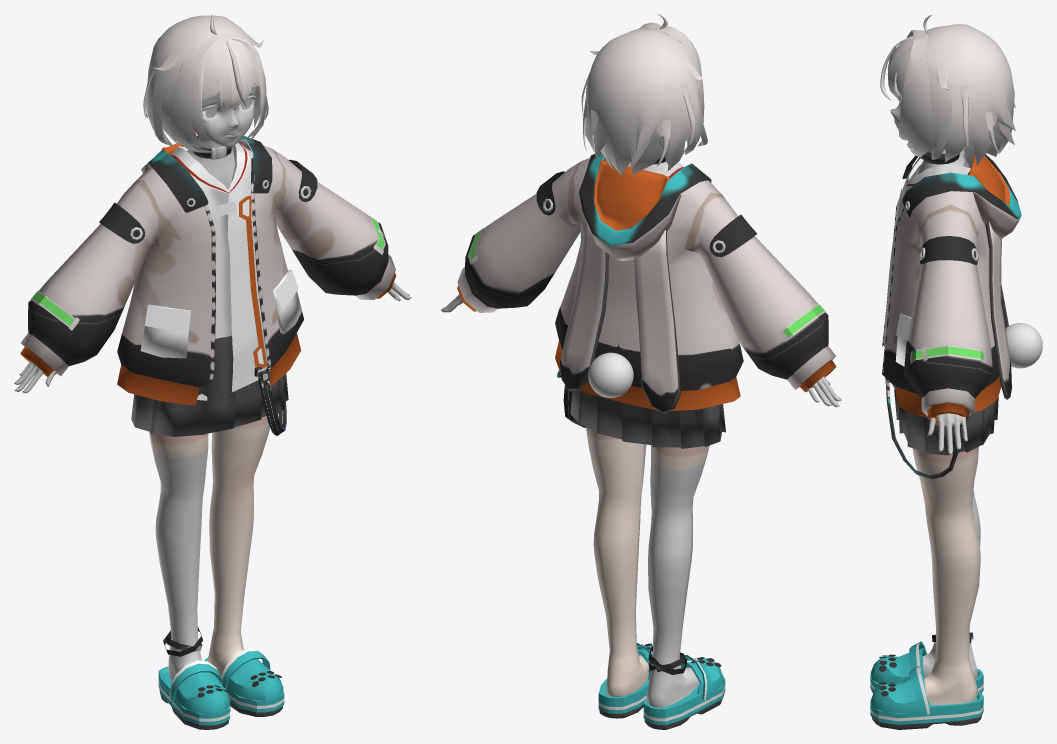
The model's file is MainChar095.fbx.
The picture shows the model from 3 angles, left to right: view 1: azimuth 30°, elevation 25°; view 2: azimuth 150°, elevation 25°; view 3: azimuth 270°, elevation 25°; orthographic projection.
Visible parts, largest first — view 1: Cylinder.002, Cylinder.004, Cylinder.005, Plane.045, Cylinder.003, Plane.037, Plane.006, Cylinder.024, Cylinder.009, Plane, Plane.005, Cylinder.027 (+7 smaller); view 2: Cylinder.002, Cylinder.004, Plane.037, Cylinder.026, Cylinder.009, Cylinder.003, Plane.006, Cube.005, Cylinder.027, Plane.005, Plane.045, Cylinder.010 (+1 smaller); view 3: Cylinder.002, Cylinder.004, Plane.037, Cylinder.009, Plane.045, Plane.006, Cylinder.003, Cylinder.026, Plane.005, Cube.005, Cylinder.027, Cylinder.010 (+10 smaller).
Part boxes in pixels (x1,y1,x2,y2): Cylinder.002: (20, 139, 396, 405); Cylinder.004: (149, 416, 270, 680); Cylinder.005: (194, 148, 270, 400); Plane.045: (169, 33, 266, 152); Cylinder.003: (131, 335, 288, 436); Plane.037: (145, 15, 268, 146); Plane.006: (158, 657, 283, 714); Cylinder.024: (140, 270, 301, 358); Cylinder.009: (141, 135, 272, 212); Plane: (202, 87, 255, 147); Plane.005: (158, 675, 284, 725); Cylinder.027: (99, 159, 317, 243); Cylinder.002: (457, 156, 836, 410); Cylinder.004: (586, 427, 709, 707); Plane.037: (585, 28, 707, 175); Cylinder.026: (559, 219, 680, 413); Cylinder.009: (579, 151, 711, 260); Cylinder.003: (570, 389, 725, 448); Plane.006: (598, 644, 724, 714); Cube.005: (588, 352, 633, 397); Cylinder.027: (536, 171, 756, 257); Plane.005: (598, 678, 725, 725); Plane.045: (637, 22, 704, 141); Cylinder.010: (440, 294, 841, 407); Cylinder.002: (882, 155, 1005, 424); Cylinder.004: (912, 446, 980, 705); Plane.037: (927, 24, 1015, 166); Cylinder.009: (902, 154, 1021, 239); Plane.045: (887, 30, 933, 156); Plane.006: (870, 647, 983, 713); Cylinder.003: (894, 389, 998, 455); Cylinder.026: (985, 221, 1011, 399); Plane.005: (870, 676, 983, 724); Cube.005: (1006, 323, 1042, 368); Cylinder.027: (920, 236, 977, 264); Cylinder.010: (927, 413, 967, 454).
Size of the model in its own units: 1160 by 1929 by 436.
